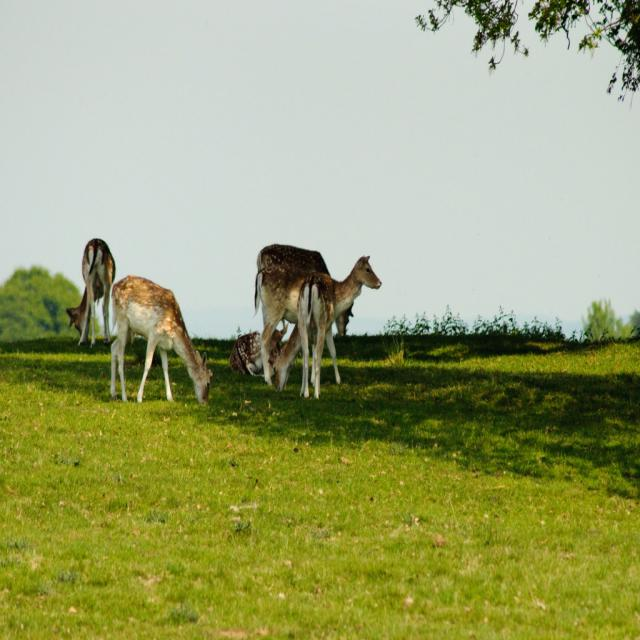Deer: (254, 253, 382, 385), (111, 274, 213, 406), (258, 242, 352, 342), (267, 274, 332, 401), (65, 238, 116, 348), (297, 273, 337, 391), (228, 324, 286, 376)
